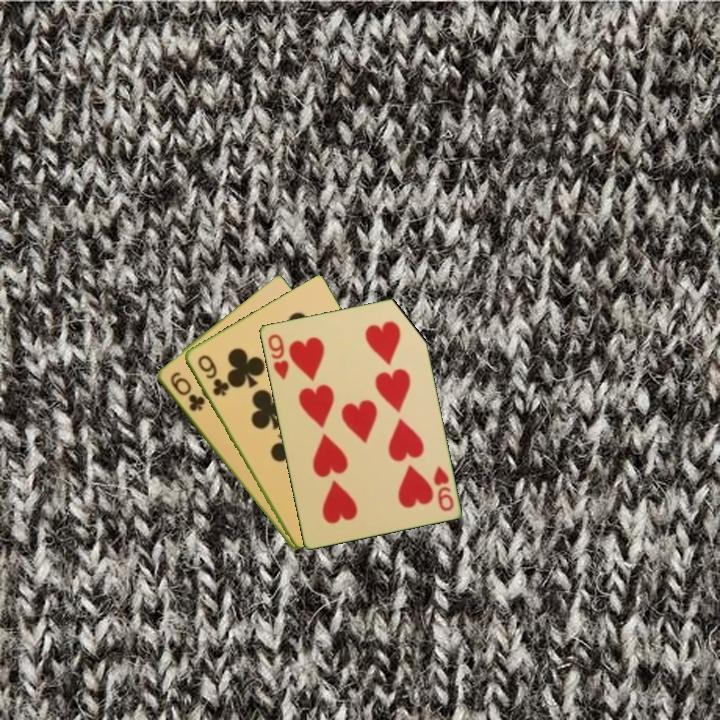6c: (166, 368, 207, 414)
9c: (194, 351, 231, 399)
9h: (264, 330, 291, 383), (430, 462, 456, 514)
